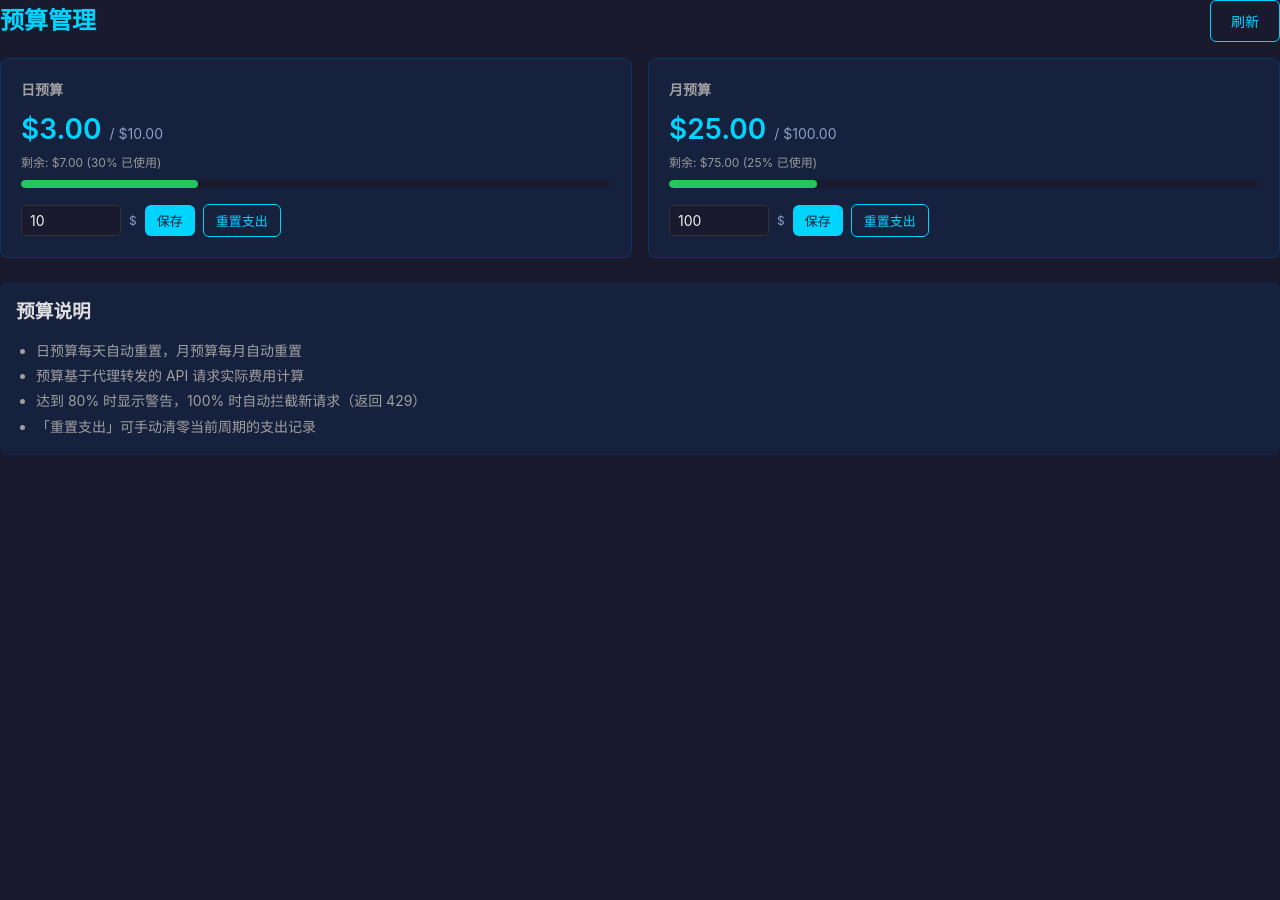
Test: Budget › 点击重置支出弹出确认框
The image size is (1280, 900).
// 点击第一个重置支出按钮（日预算的）
What coordinates should you click on to do the following:
click the button "重置支出" below "7.00"
I would click on:
 (242, 220)
Its box is [203,204,281,237].
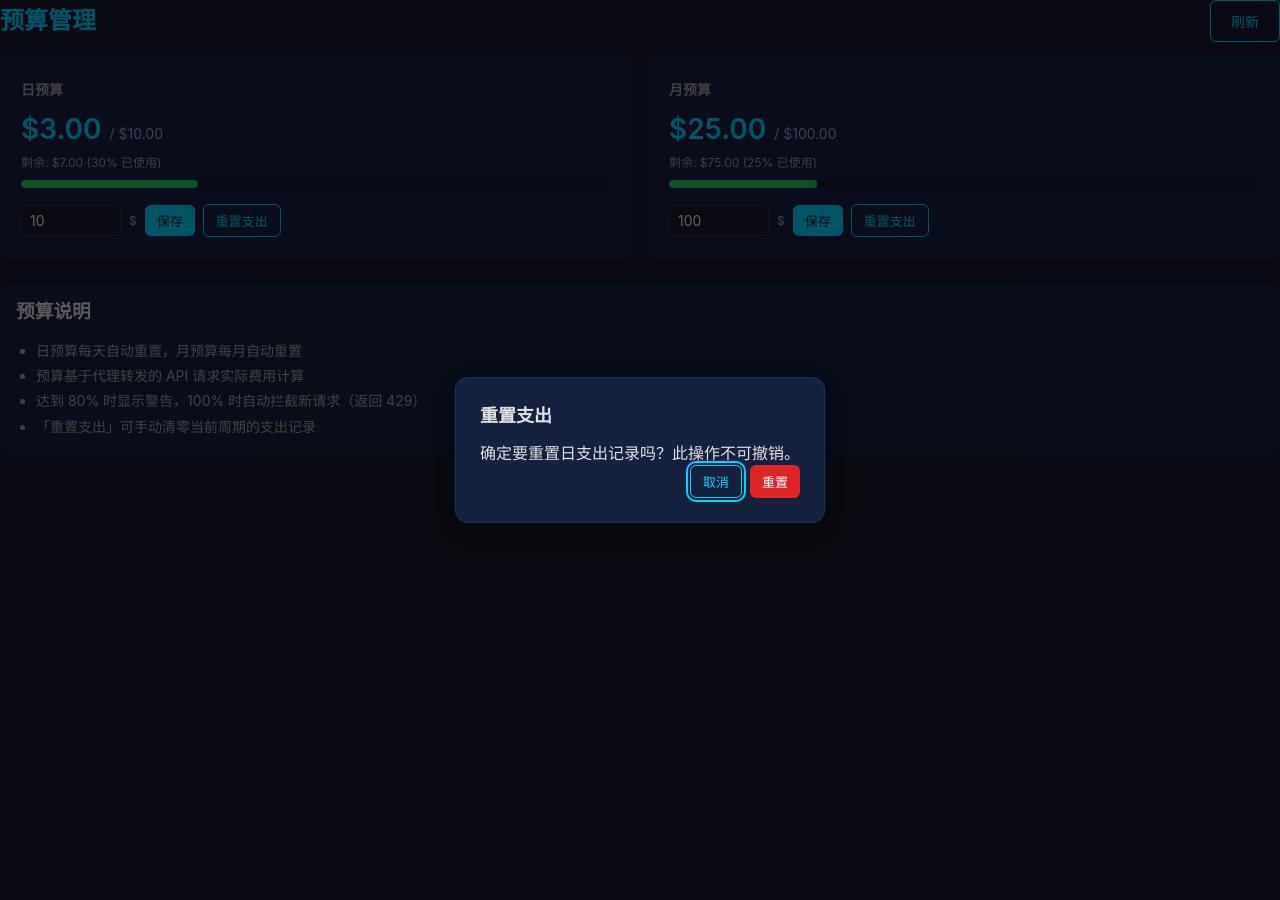
Now the text "确定要重置日支出记录吗？此操作不可撤销。" is shown, box [480,441,800,465]
